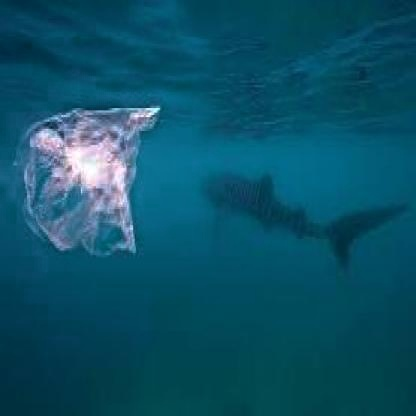pbag: (11, 106, 163, 257)
